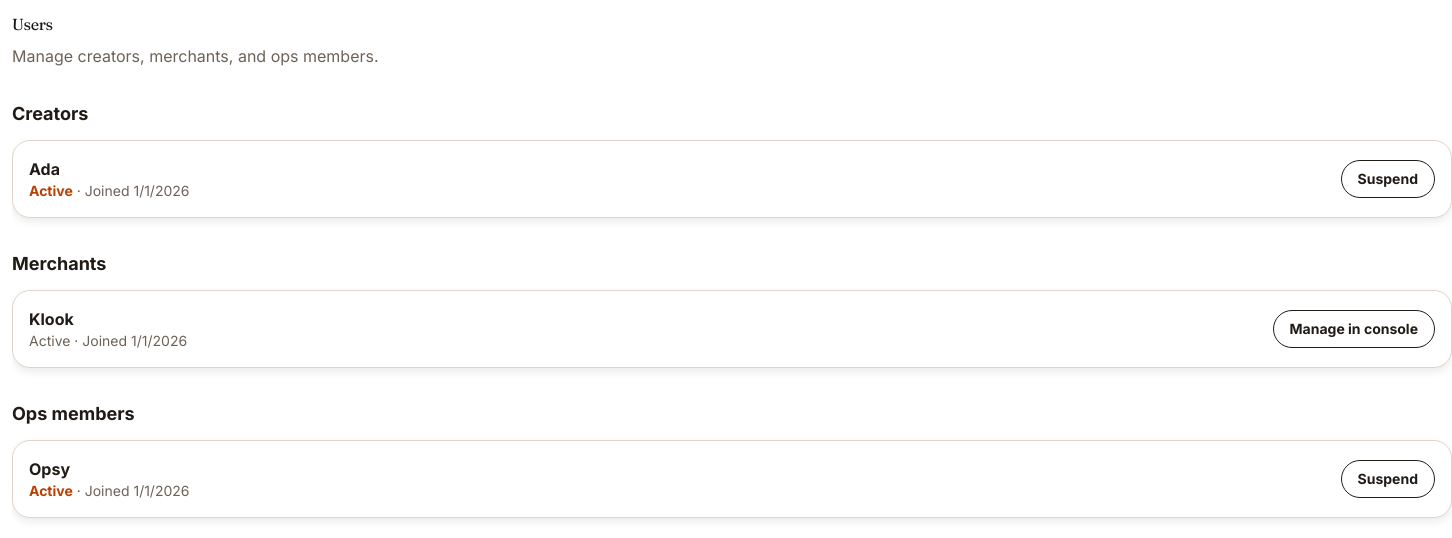
Test case: AdminUsersView › suspends an active row (its button flips to Activate) and reconciles via router.refresh
What coordinates should you click on to do the following:
click the button "Suspend" in the row of "Ada"
I would click on:
 (1388, 179)
Its box is [1341, 160, 1435, 198].
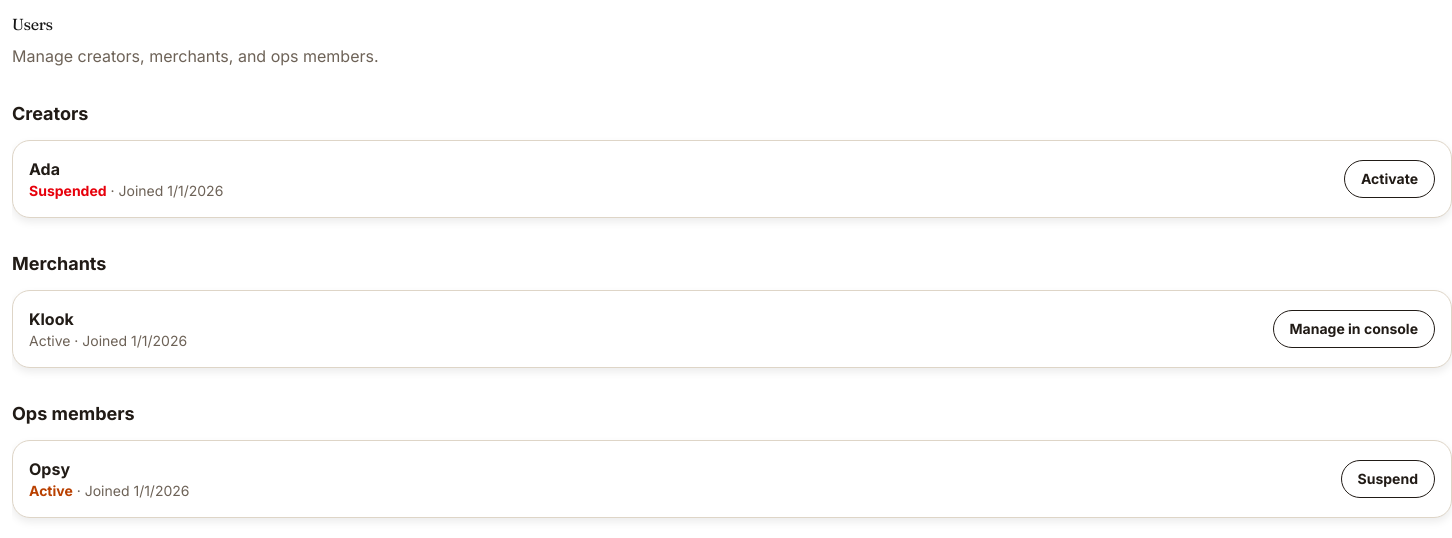
Now the button "Activate" is shown, box [1344, 160, 1435, 198]
